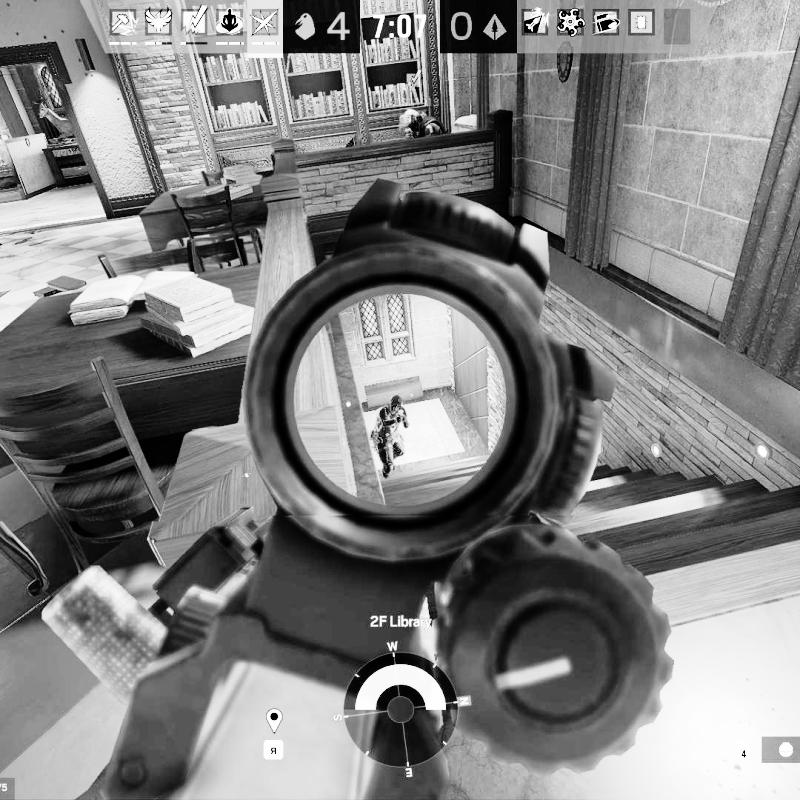Character: (369, 394, 412, 481), (398, 110, 446, 137)
Friend_label: (386, 68, 440, 108)
Head: (403, 110, 422, 133), (389, 395, 402, 412)
